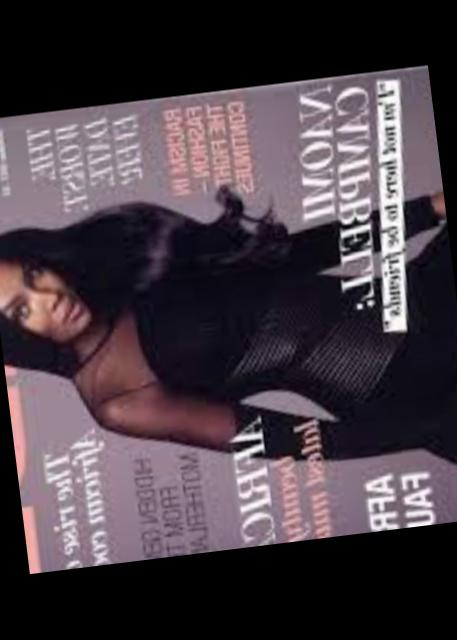cardboard paper: (0, 65, 457, 575)
